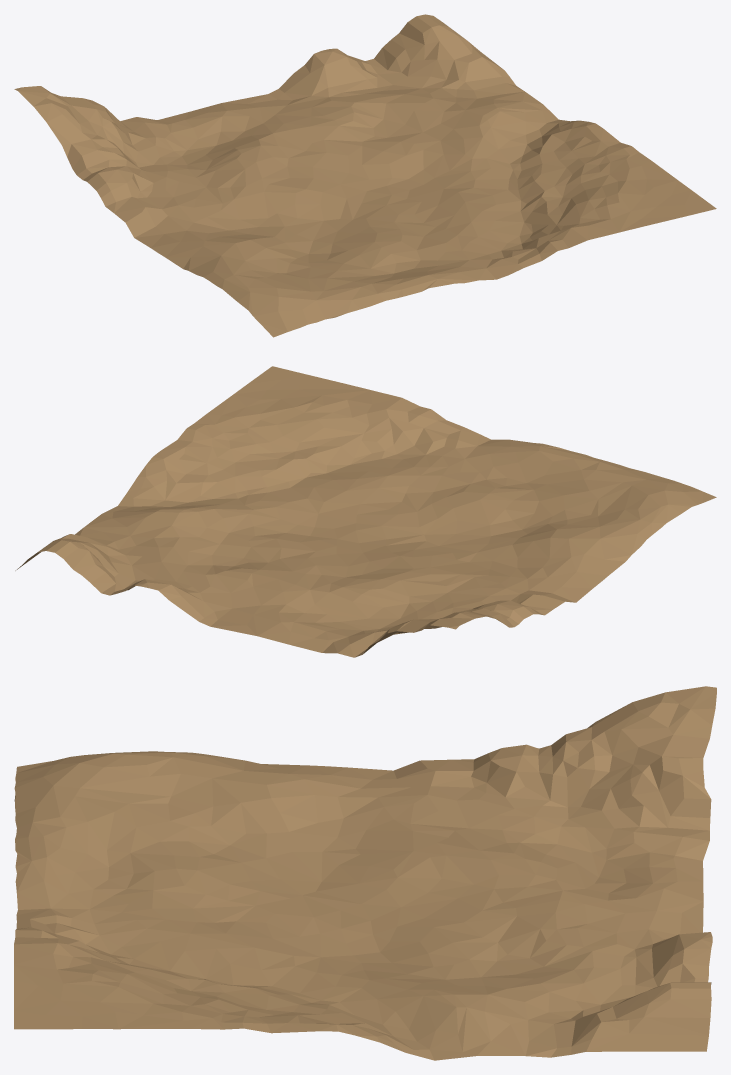
File: killPlane.fbx
3 renders of one model, top to bottom at view 1: azimuth 30°, elevation 25°; view 2: azimuth 150°, elevation 25°; view 3: azimuth 270°, elevation 25°, orthographic. The views are drawn at different scales.
Parts seen in each view (by area): view 1: Plane.003; view 2: Plane.003; view 3: Plane.003.
Boxes of the visible parts, left/top/right/bottom form: Plane.003: left=14, top=14, right=716, bottom=337; Plane.003: left=15, top=366, right=716, bottom=657; Plane.003: left=14, top=686, right=716, bottom=1060.
Size of the model in its own units: 2015 by 284 by 2050.
